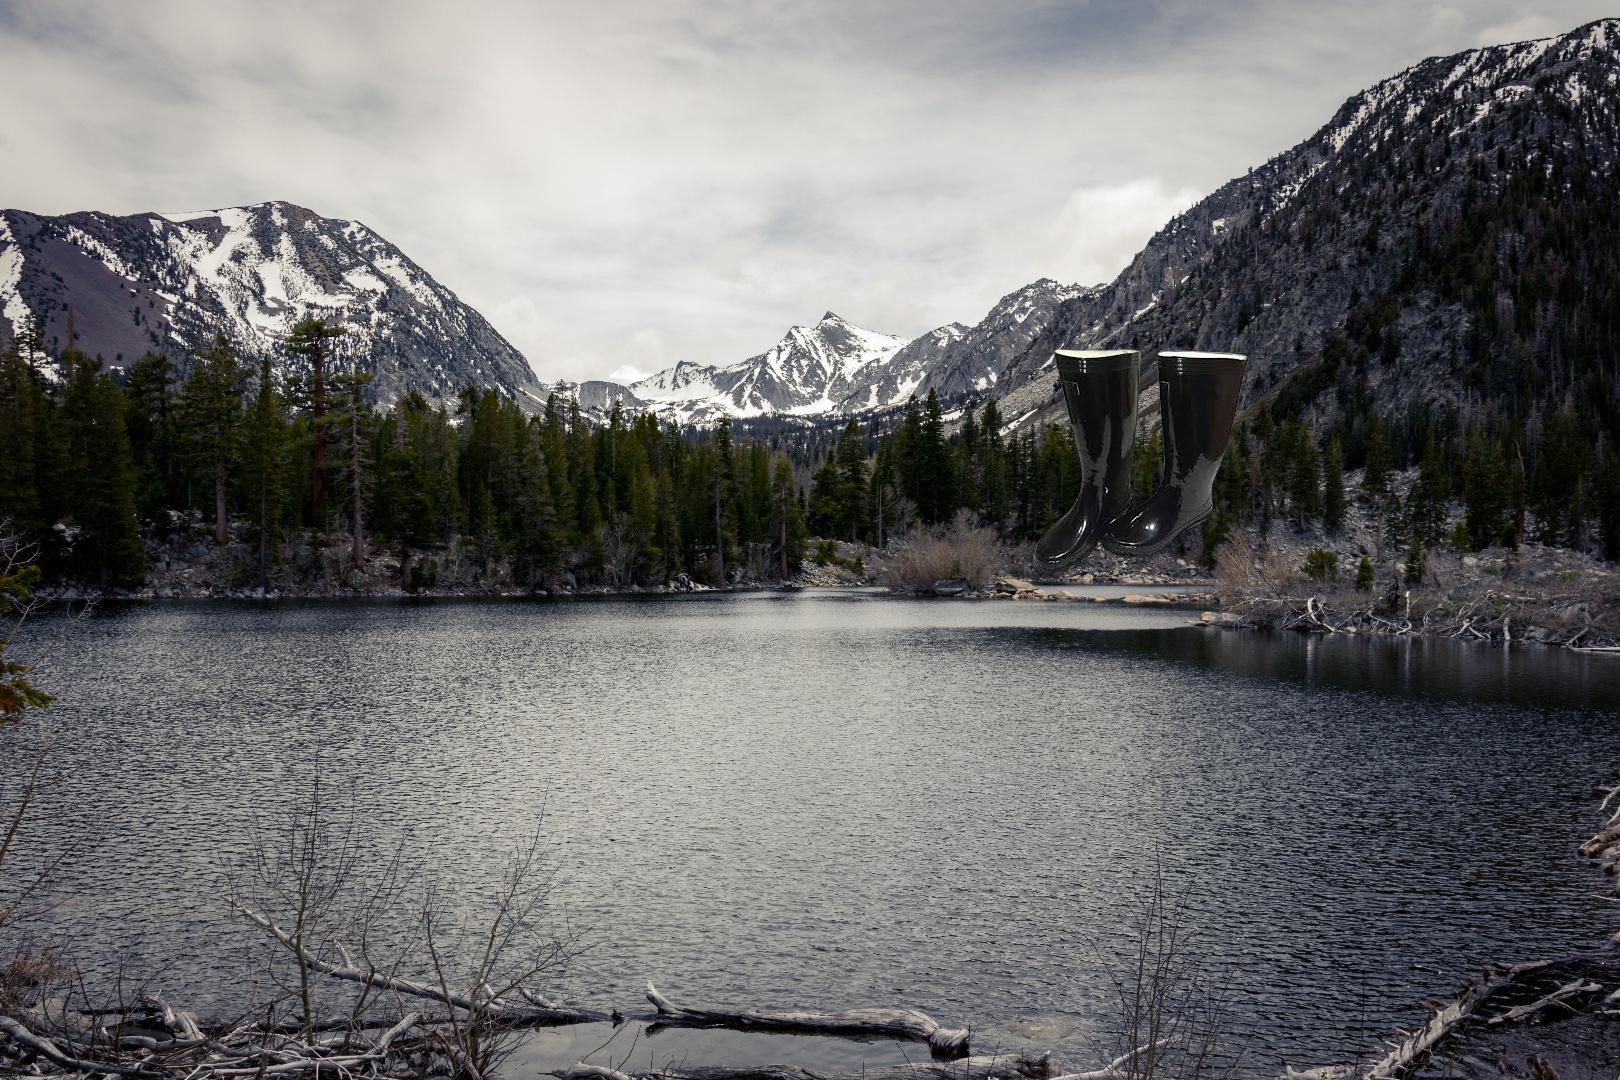shoes: (1031, 347, 1251, 576)
